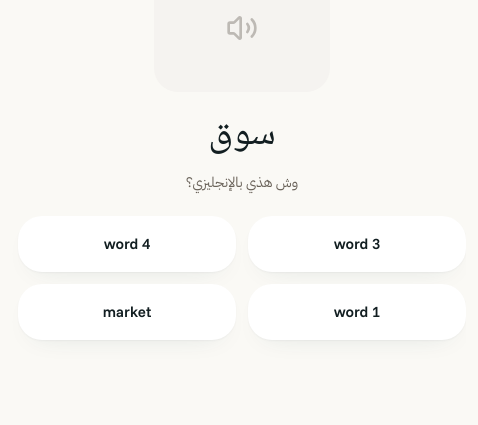
Test: multiple choice › reports a wrong answer with what was chosen
Click the button "word 3".
click(357, 244)  # box [248,216,466,272]
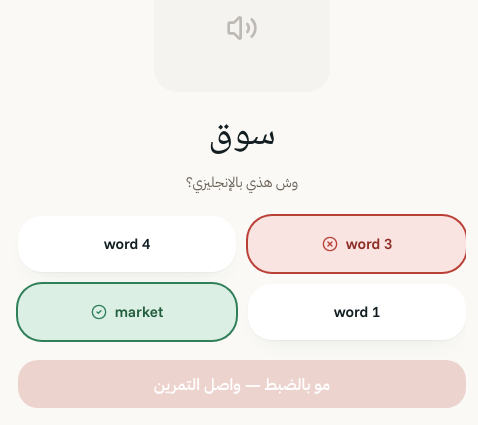
Result: the text "مو بالضبط — واصل التمرين" is shown at [18,360,466,408]
